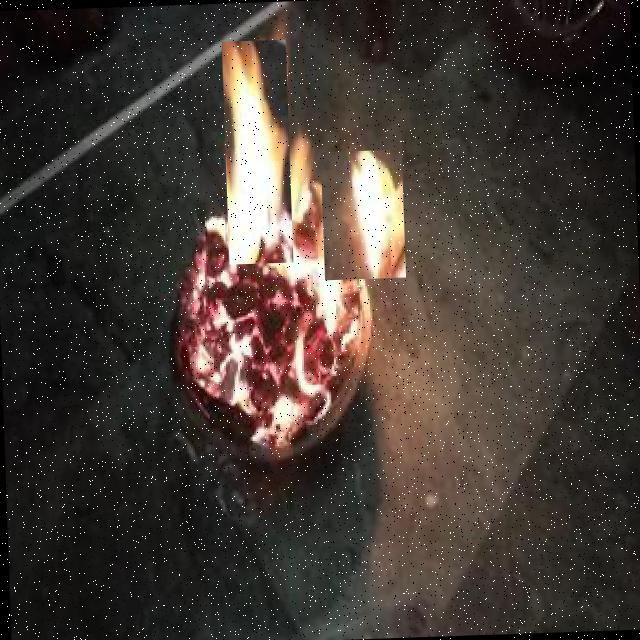fire: (221, 39, 293, 264), (320, 149, 406, 280)
